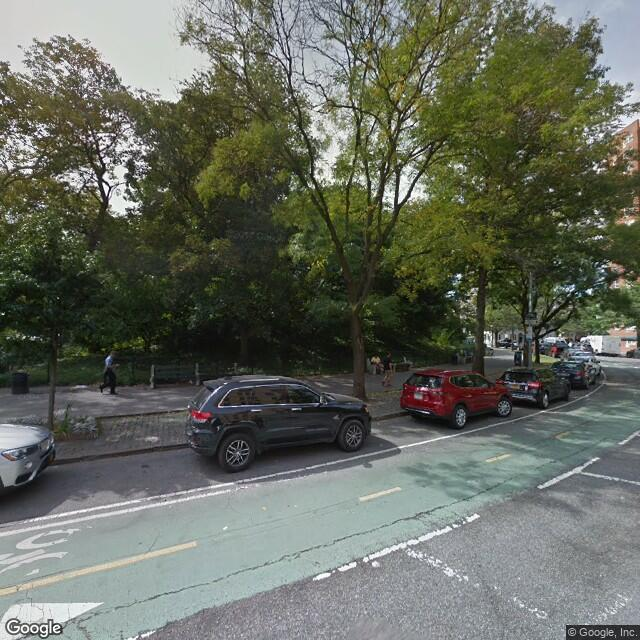litter: (134, 436, 161, 445), (219, 523, 231, 531)
